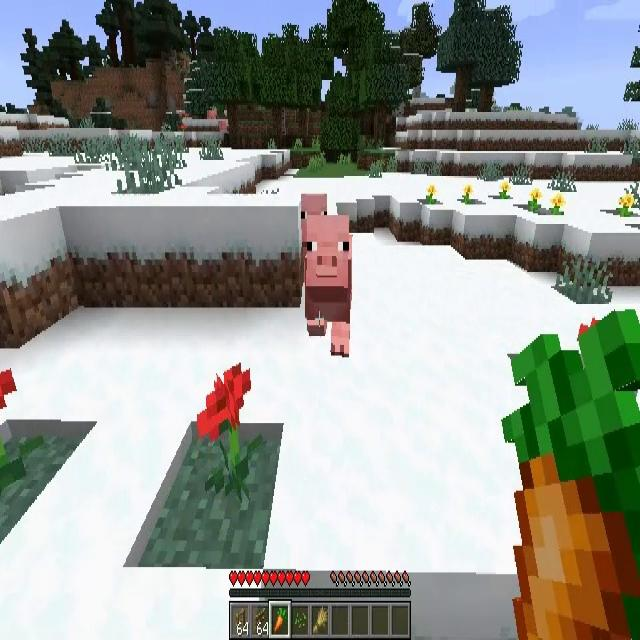pig: (305, 218, 352, 337), (300, 194, 328, 286)
